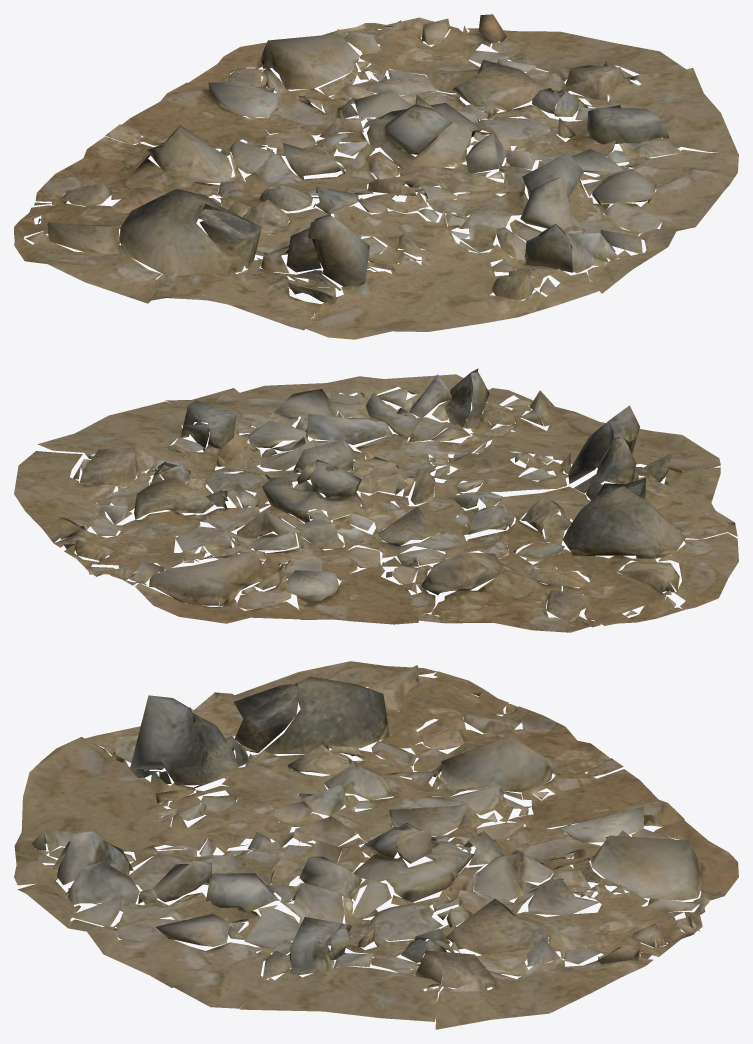
Rendered from ph_sand_rocks_small_01.glb.
3 renders of one model, top to bottom at view 1: azimuth 30°, elevation 25°; view 2: azimuth 150°, elevation 25°; view 3: azimuth 270°, elevation 25°, orthographic. The views are drawn at different scales.
Parts seen in each view (by area): view 1: sand_rocks_small_01_LOD0; view 2: sand_rocks_small_01_LOD0; view 3: sand_rocks_small_01_LOD0.
Part boxes in pixels (box(x1,y1,x2,y2)): sand_rocks_small_01_LOD0: box(14, 14, 738, 339); sand_rocks_small_01_LOD0: box(14, 368, 738, 632); sand_rocks_small_01_LOD0: box(14, 661, 738, 1029).
Size of the model in its own units: 4.64 by 0.526 by 3.88.
1 material, 1 textured.
